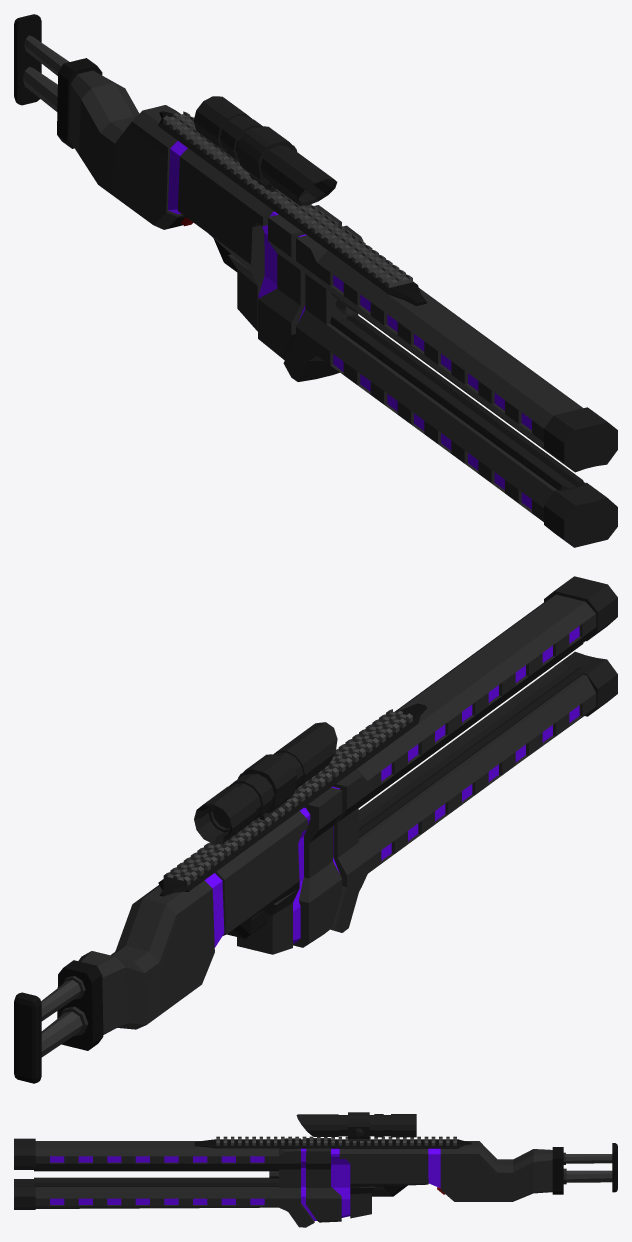
The model's file is Sniper.fbx.
3 renders of one model, top to bottom at view 1: azimuth 30°, elevation 25°; view 2: azimuth 150°, elevation 25°; view 3: azimuth 270°, elevation 25°, orthographic. The views are drawn at different scales.
Visible parts, largest first — view 1: Sniper; view 2: Sniper; view 3: Sniper.
Boxes of the visible parts, x1,y1,x2,y2 form: Sniper: [14, 14, 617, 547]; Sniper: [14, 576, 617, 1083]; Sniper: [14, 1112, 617, 1227].
Bounding box in the file's own units: 12.25 × 43.16 × 222.
